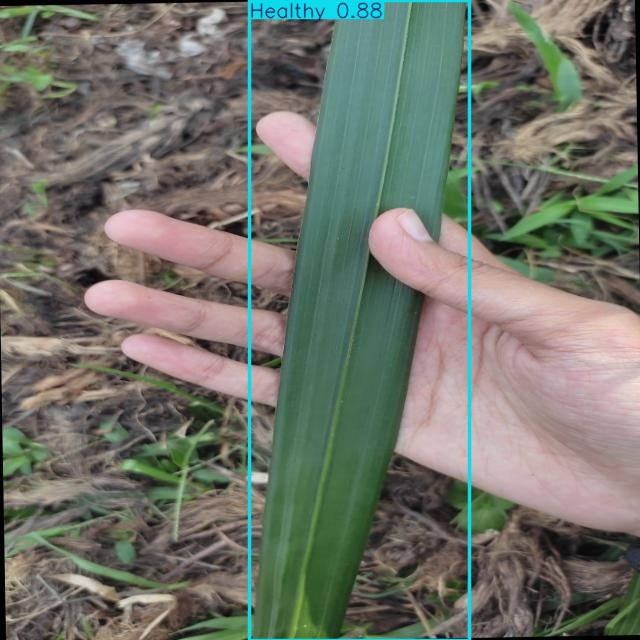Healthy: (250, 0, 469, 640)
